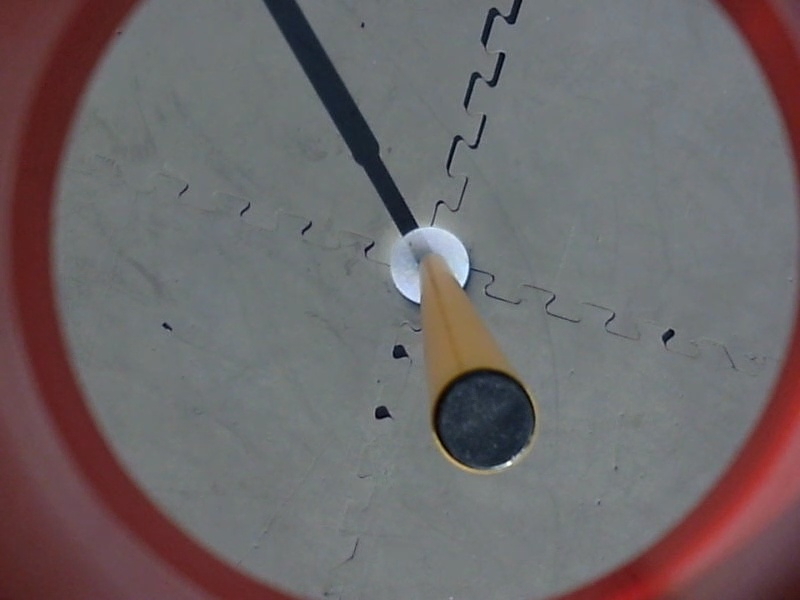tip: (425, 357, 545, 474)
